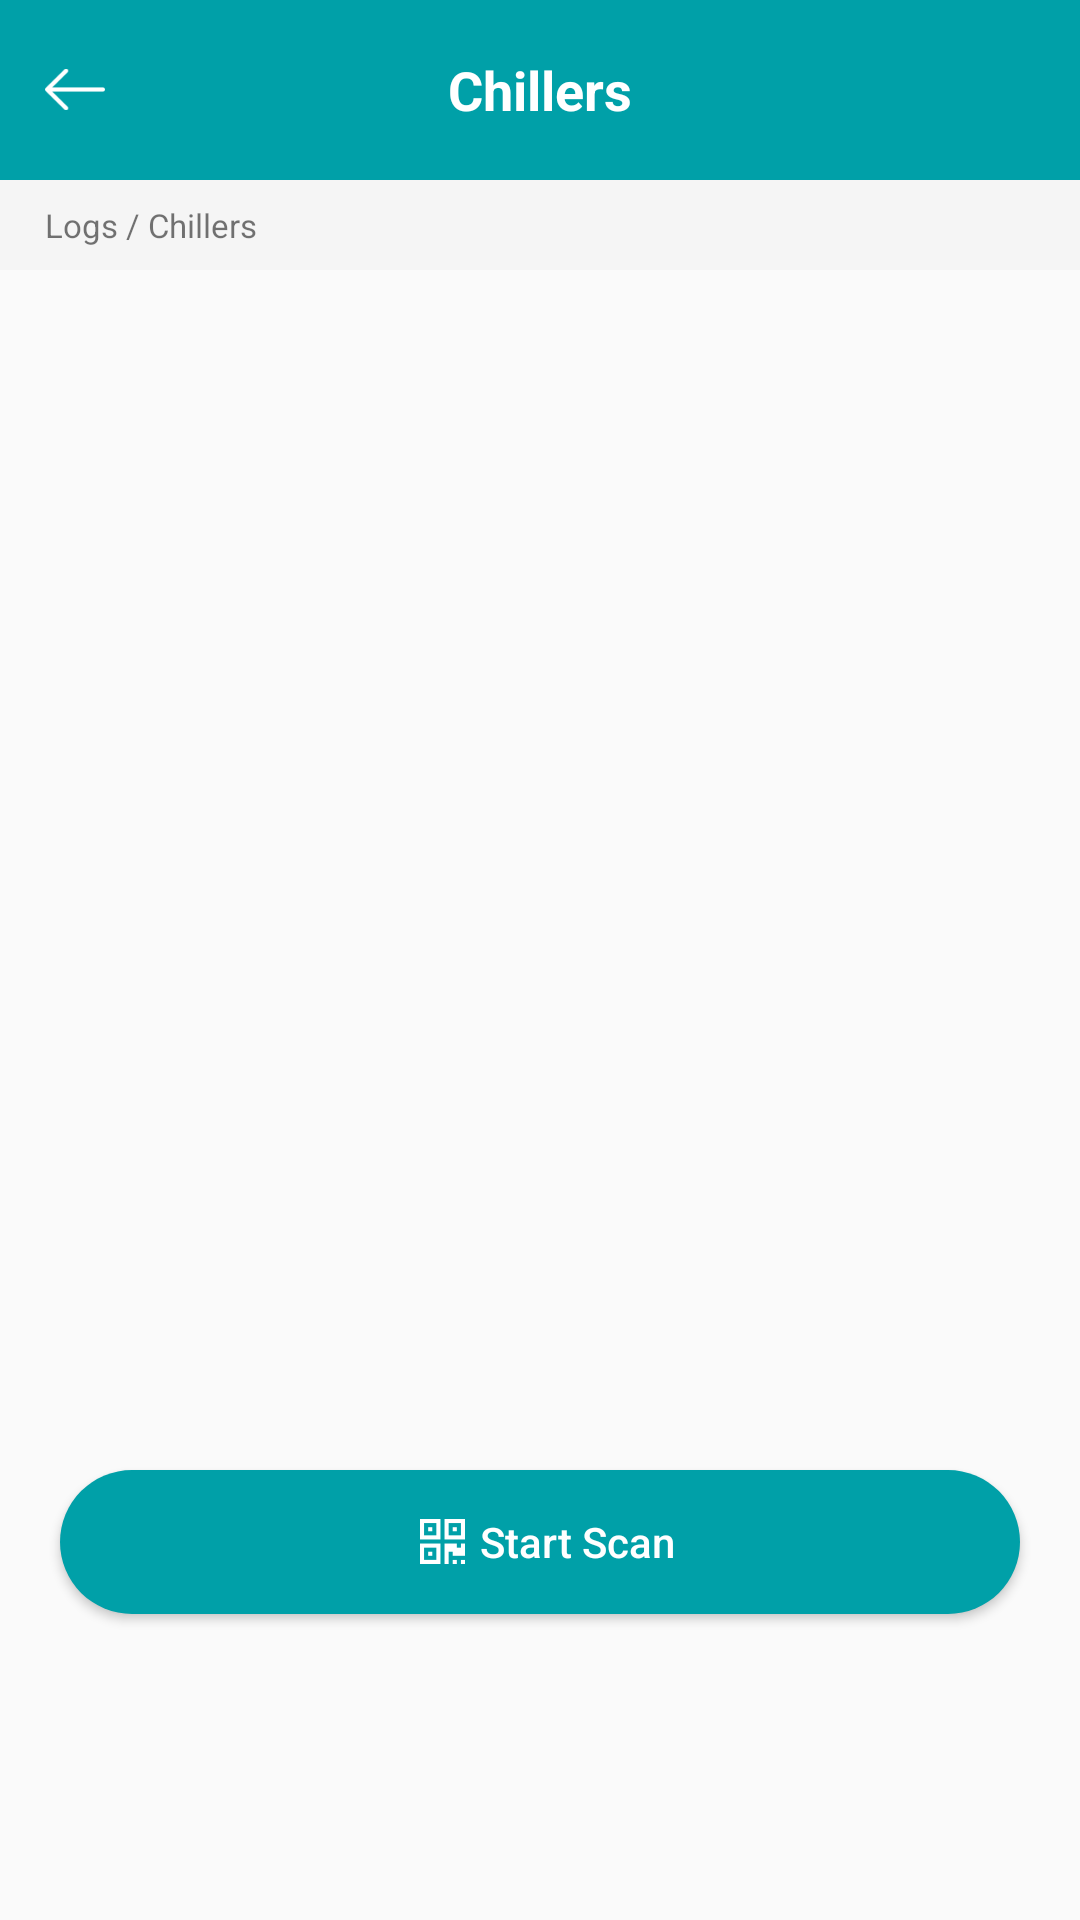

Icons on this 1080px x 1920px Android screen, each with its box as (x1, y1, x2, y2):
back: (45, 69, 105, 110)
